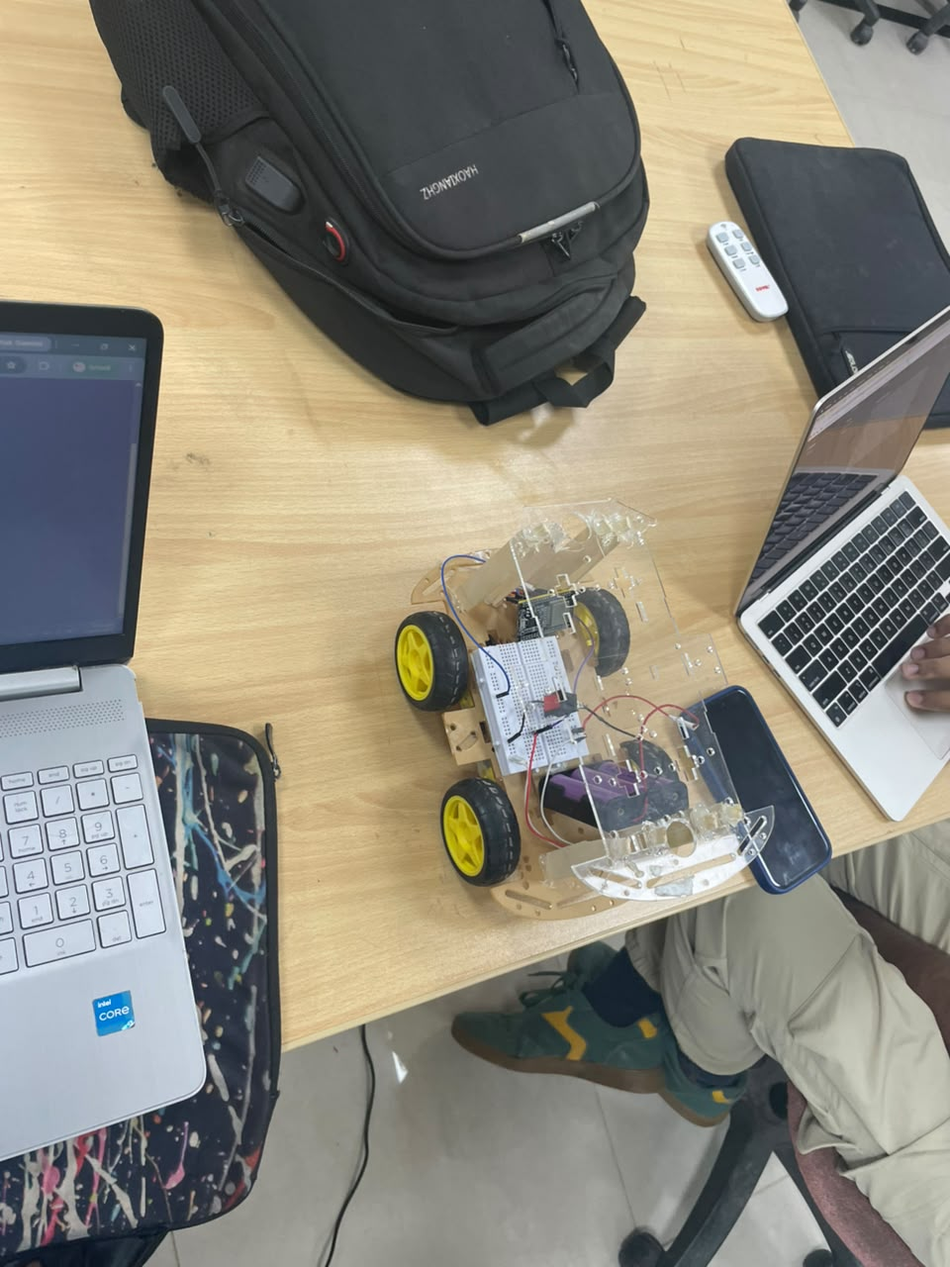Rover: (394, 500, 791, 922)
